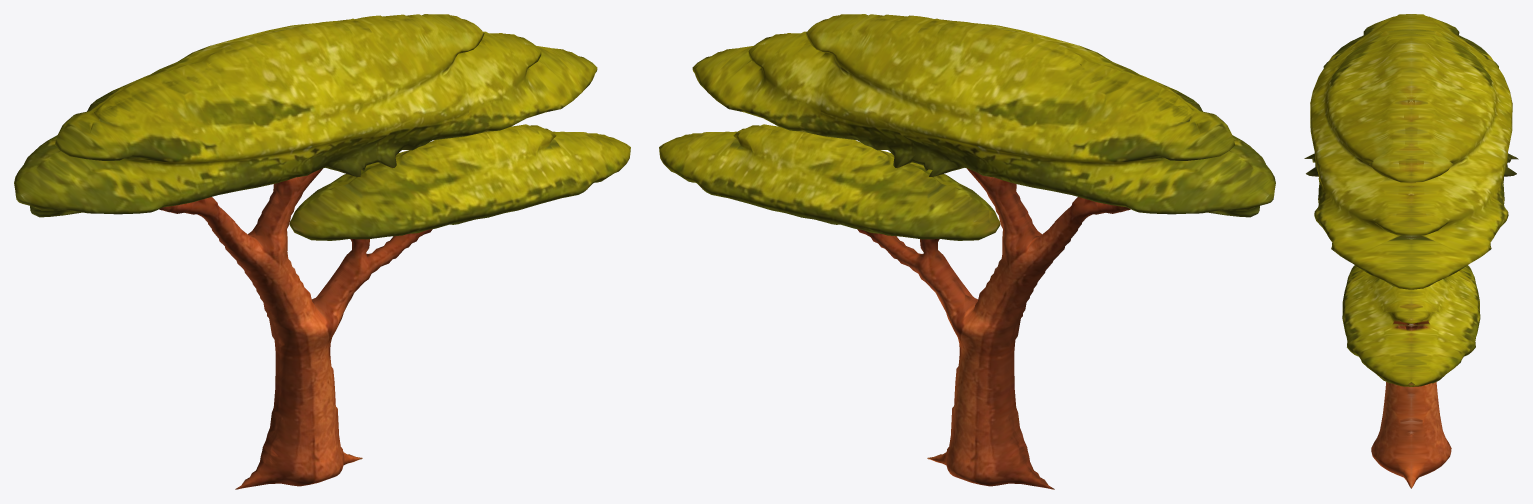
Rendered from 24_trees_c_r00_c01.glb.
3 views of the same model, side by side, from view 1: azimuth 30°, elevation 25°; view 2: azimuth 150°, elevation 25°; view 3: azimuth 270°, elevation 25° (orthographic). The views are drawn at different scales.
Parts seen in each view (by area): view 1: 24_trees_c_r00_c01; view 2: 24_trees_c_r00_c01; view 3: 24_trees_c_r00_c01.
Part boxes in pixels (x1=…): 24_trees_c_r00_c01: x1=14, y1=14, x2=630, y2=489; 24_trees_c_r00_c01: x1=659, y1=14, x2=1275, y2=489; 24_trees_c_r00_c01: x1=1304, y1=14, x2=1518, y2=488.
Size of the model in its own units: 6.33 by 4.4 by 2.17.
1 material, 1 textured.
